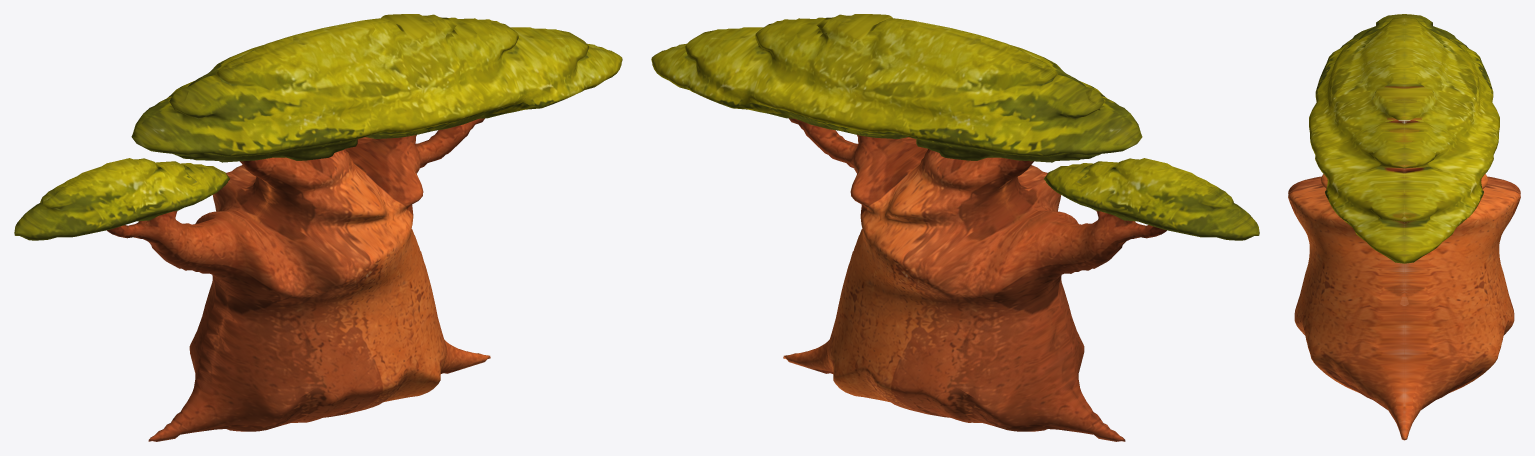
Rendered from 24_trees_c_r01_c00.glb.
The picture shows the model from 3 angles, left to right: view 1: azimuth 30°, elevation 25°; view 2: azimuth 150°, elevation 25°; view 3: azimuth 270°, elevation 25°; orthographic projection. The views are drawn at different scales.
Parts seen in each view (by area): view 1: 24_trees_c_r01_c00; view 2: 24_trees_c_r01_c00; view 3: 24_trees_c_r01_c00.
Boxes of the visible parts, x1,y1,x2,y2 form: 24_trees_c_r01_c00: [14, 14, 622, 441]; 24_trees_c_r01_c00: [651, 14, 1259, 441]; 24_trees_c_r01_c00: [1288, 14, 1520, 440].
Size of the model in its own units: 8.71 by 5.05 by 3.26.
Materials: 1 (1 with a texture image).
